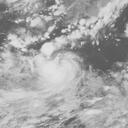cyclone: (33, 49, 80, 91)
